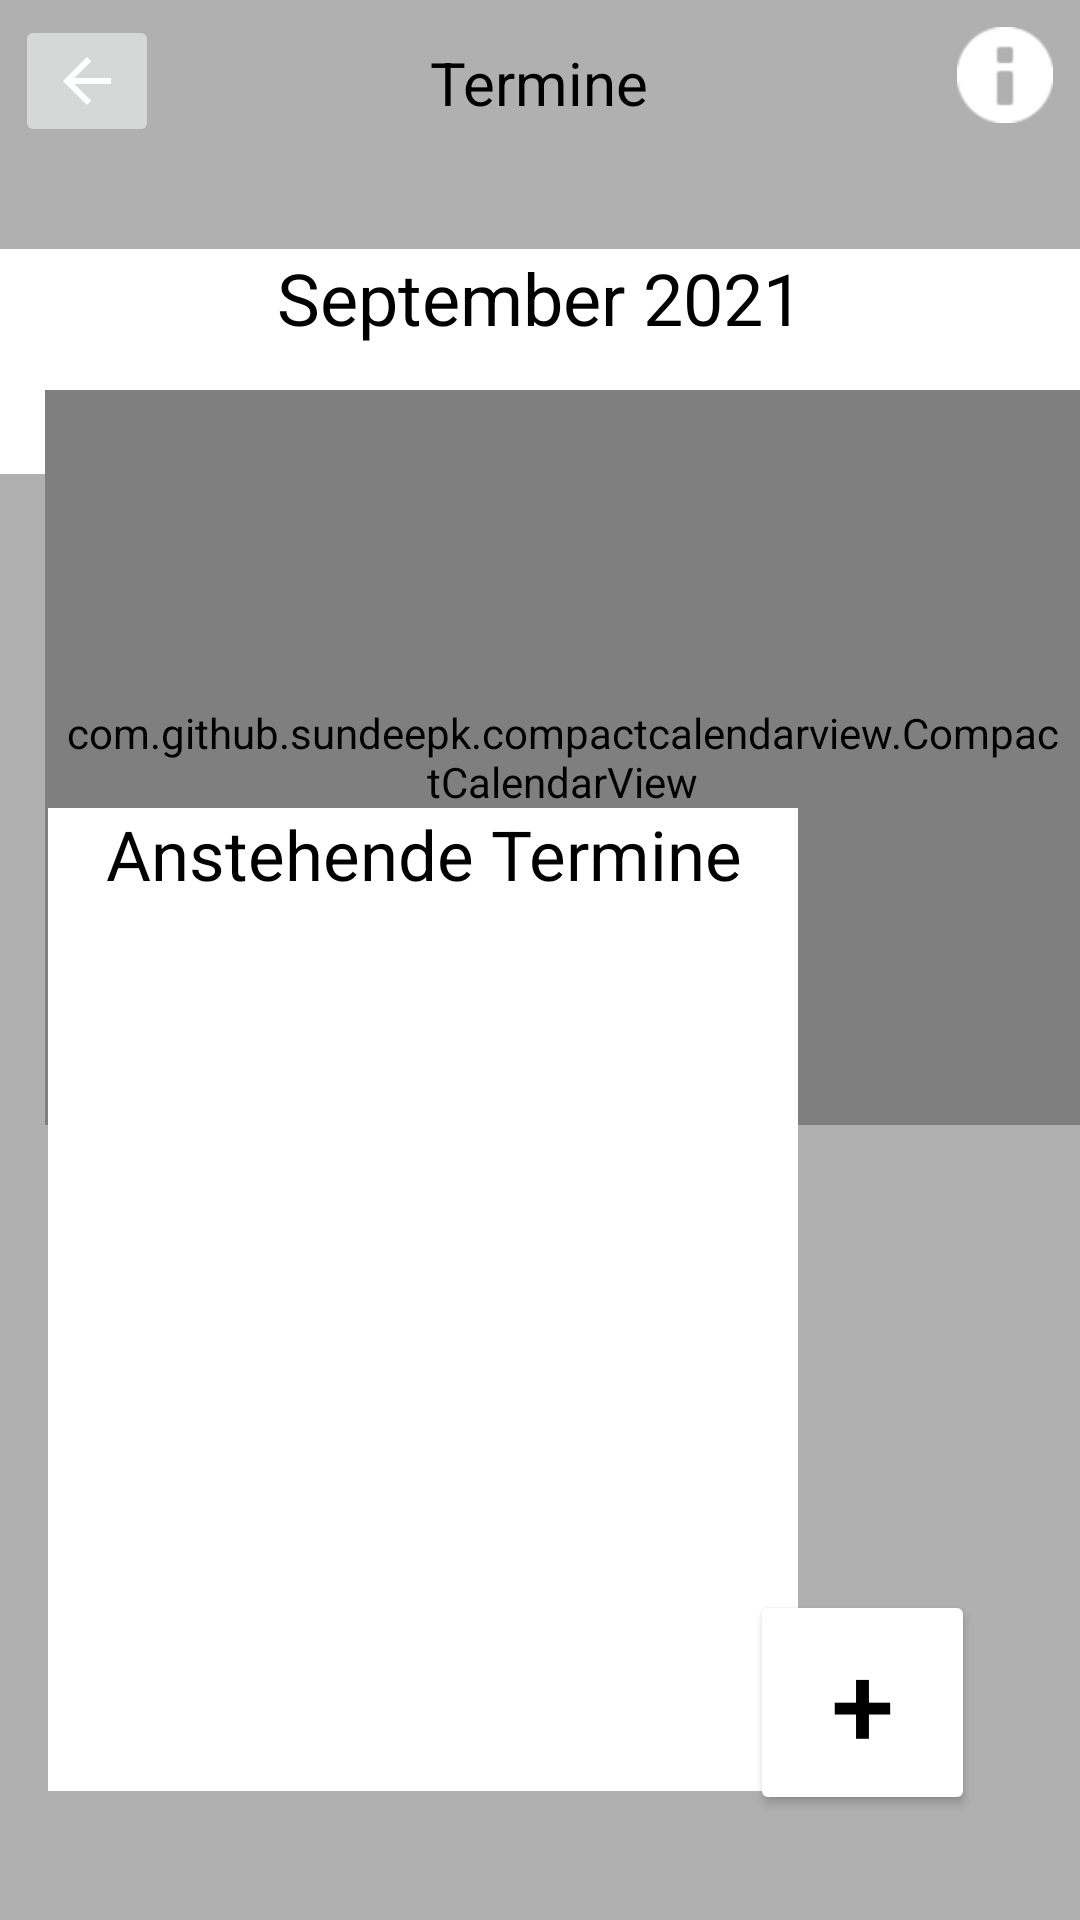

Screen size 1080px x 1920px. Icon name, then its box in pixels as [x1, y1, x2, y2]:
info: [957, 27, 1053, 123]
